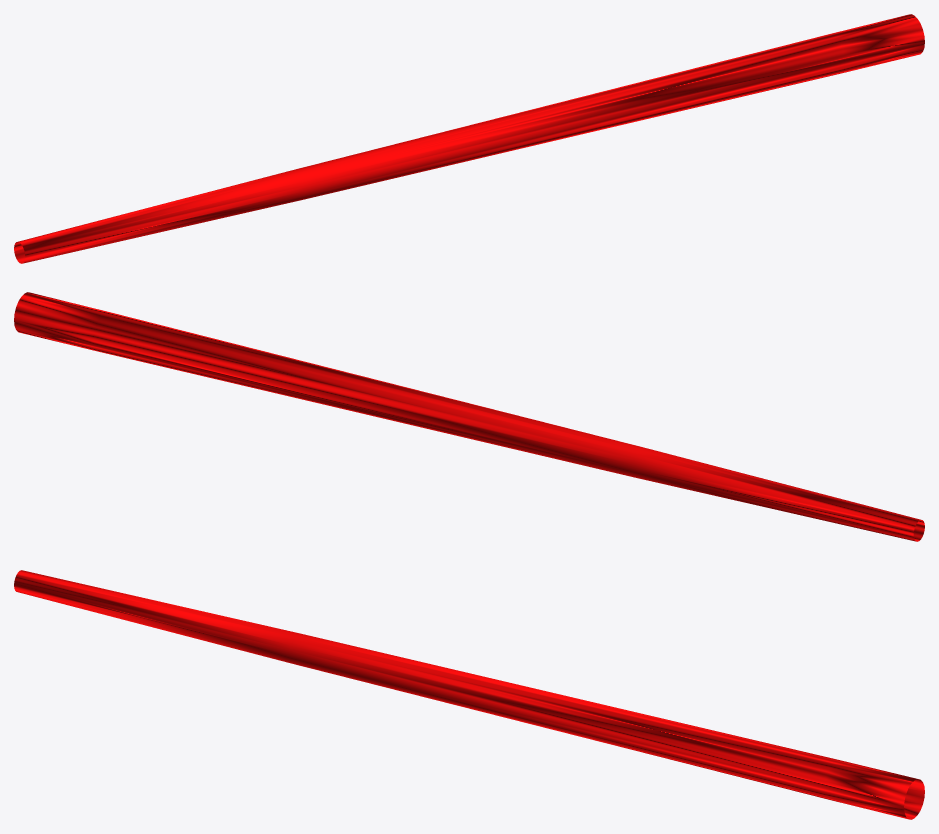
Rendered from SM_Tracer.fbx.
3 views of the same model, one above another, from view 1: azimuth 30°, elevation 25°; view 2: azimuth 150°, elevation 25°; view 3: azimuth 330°, elevation 25° (orthographic).
Visible parts, largest first — view 1: NewWorld.001; view 2: NewWorld.001; view 3: NewWorld.001.
Boxes of the visible parts, bbox=[...] form: NewWorld.001: bbox=[14, 14, 924, 263]; NewWorld.001: bbox=[14, 292, 924, 541]; NewWorld.001: bbox=[14, 570, 924, 819].
Bounding box in the file's own units: 3277 × 133 × 133.
1 material, 1 textured.
